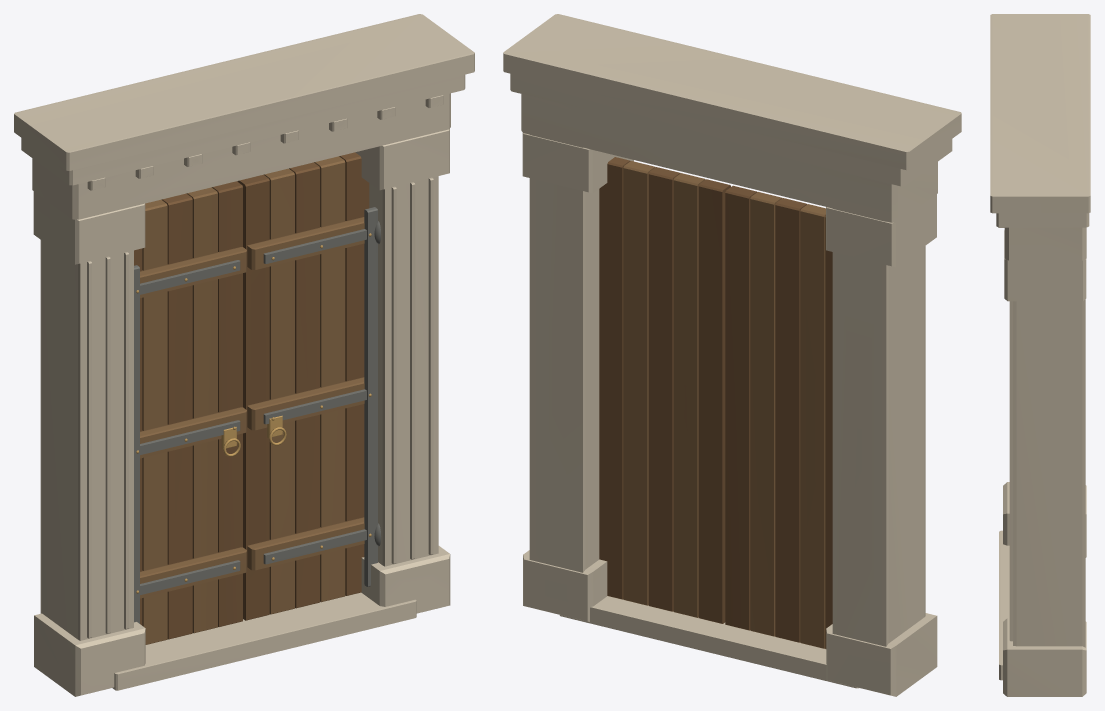
The model's file is portal_lod1.glb.
3 views of the same model, side by side, from view 1: azimuth 30°, elevation 25°; view 2: azimuth 150°, elevation 25°; view 3: azimuth 270°, elevation 25° (orthographic). The views are drawn at different scales.
Parts seen in each view (by area): view 1: Viva_Taberna_Portal; view 2: Viva_Taberna_Portal; view 3: Viva_Taberna_Portal.
Boxes of the visible parts, x1,y1,x2,y2 form: Viva_Taberna_Portal: [14, 14, 474, 696]; Viva_Taberna_Portal: [503, 14, 961, 696]; Viva_Taberna_Portal: [990, 14, 1090, 696].
Bounding box in the file's own units: 2.32 × 3.01 × 0.54.
